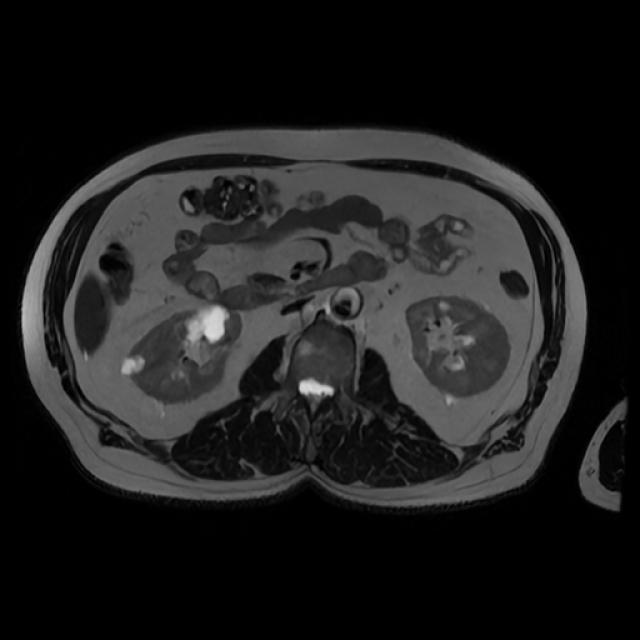sag: (120, 300, 244, 406)
sol: (402, 295, 511, 407)
